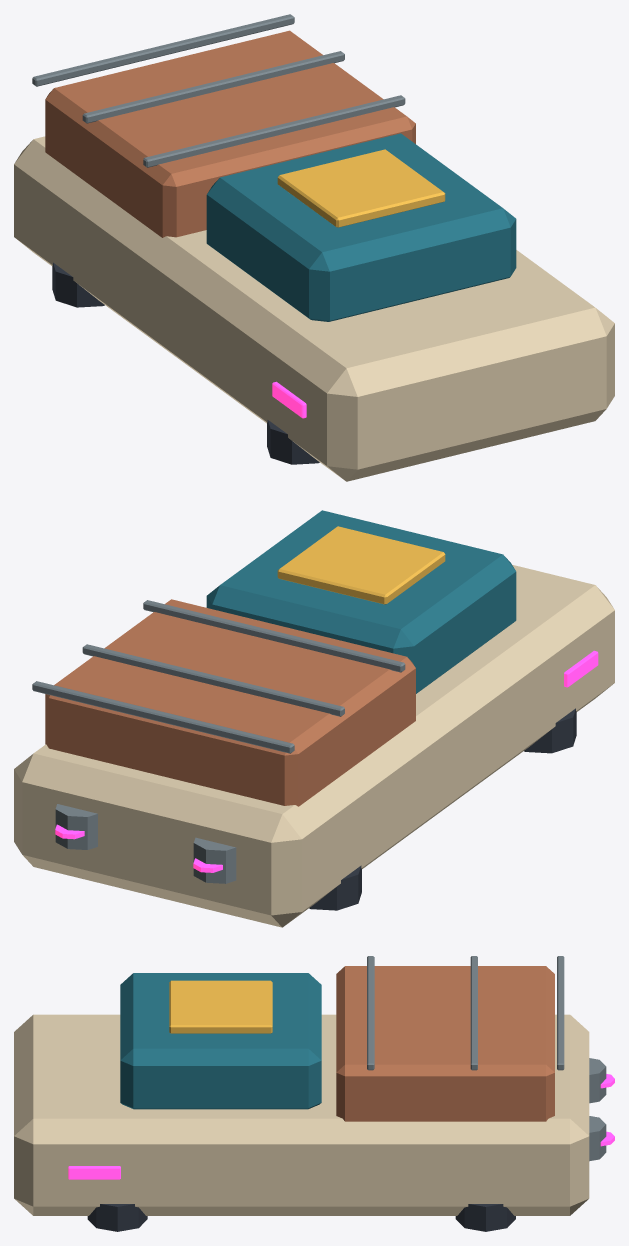
Rendered from vehicles_019_seed11.glb.
3 renders of one model, top to bottom at view 1: azimuth 30°, elevation 25°; view 2: azimuth 150°, elevation 25°; view 3: azimuth 270°, elevation 25°, orthographic. The views are drawn at different scales.
Visible parts, largest first — view 1: vehicles_019_seed11; view 2: vehicles_019_seed11; view 3: vehicles_019_seed11.
Part boxes in pixels (x1,y1,x2,y2): vehicles_019_seed11: [14, 14, 614, 481]; vehicles_019_seed11: [14, 510, 614, 927]; vehicles_019_seed11: [14, 956, 614, 1231].
Bounding box in the file's own units: 2.39 × 1.49 × 4.8.
